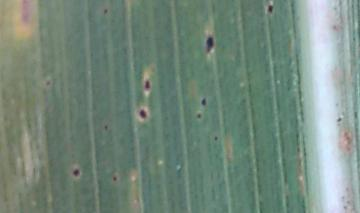tarspot: (201, 30, 217, 60), (134, 107, 150, 121), (141, 76, 154, 93), (69, 166, 84, 177), (197, 96, 211, 106), (193, 109, 204, 121), (266, 2, 275, 16), (109, 173, 121, 183), (42, 76, 52, 88), (334, 113, 343, 126), (211, 131, 220, 143), (101, 122, 110, 133), (101, 5, 109, 16)
